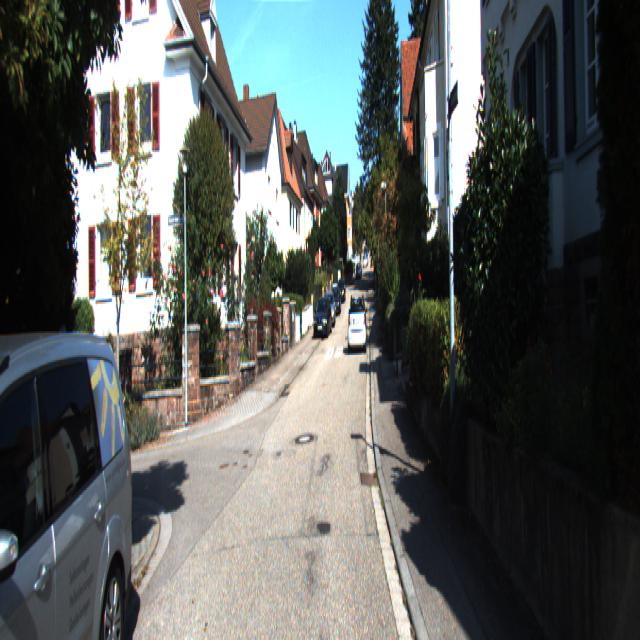Car: (0, 334, 147, 639), (347, 290, 367, 352), (312, 295, 333, 338)
